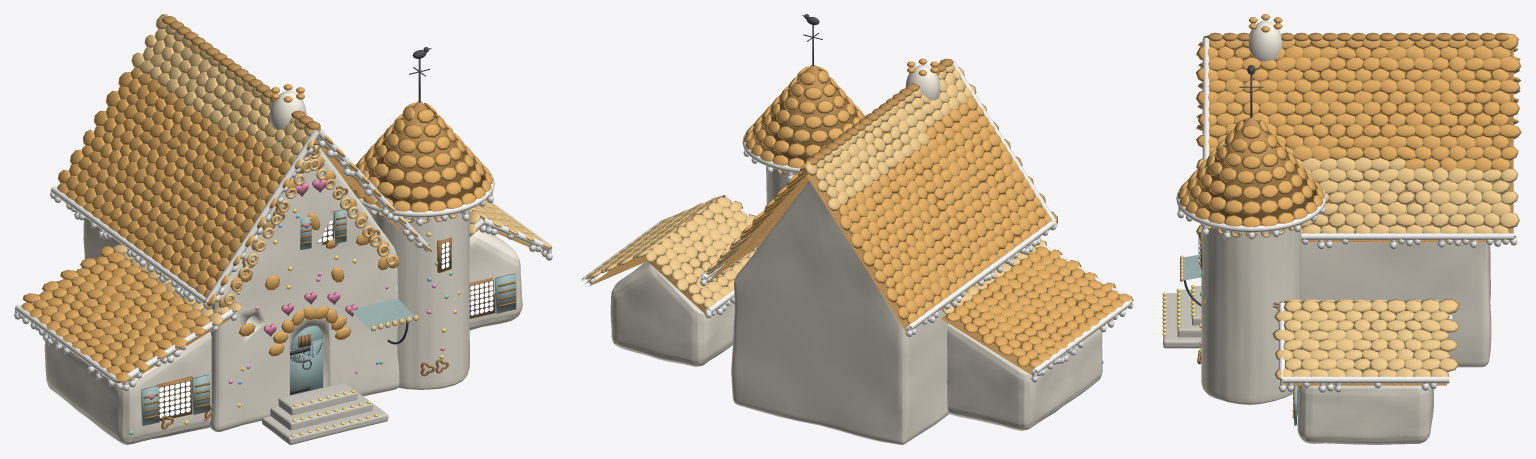
File: HansGrietje_v1.fbx
3 views of the same model, side by side, from view 1: azimuth 30°, elevation 25°; view 2: azimuth 150°, elevation 25°; view 3: azimuth 270°, elevation 25° (orthographic). The views are drawn at different scales.
Visible parts, largest first — view 1: MAT_pleister_0, MAT_koek_1, MAT_koek_0, MAT_koek_4, MAT_koek_5, MAT_pleister_1, MAT_koek_licht_0, MAT_pleister_2, MAT_glazuur_0, MAT_koek_donker_0, MAT_glazuur_1, MAT_luik_0 (+14 smaller); view 2: MAT_pleister_0, MAT_koek_1, MAT_koek_0, MAT_koek_4, MAT_pleister_2, MAT_pleister_3, MAT_koek_licht_0, MAT_koek_licht_2, MAT_koek_donker_0, MAT_koek_5, MAT_glazuur_0, MAT_glazuur_1 (+3 smaller); view 3: MAT_koek_2, MAT_koek_3, MAT_pleister_1, MAT_koek_licht_1, MAT_koek_licht_2, MAT_pleister_0, MAT_koek_5, MAT_pleister_3, MAT_koek_donker_0, MAT_glazuur_1, MAT_glazuur_0, MAT_steen_0 (+3 smaller).
Boxes of the visible parts, <box> form: MAT_pleister_0: <box>83,142,399,431</box>; MAT_koek_1: <box>93,68,290,232</box>; MAT_koek_0: <box>57,129,253,306</box>; MAT_koek_4: <box>21,246,209,383</box>; MAT_koek_5: <box>219,84,493,356</box>; MAT_pleister_1: <box>368,209,469,389</box>; MAT_koek_licht_0: <box>131,14,314,169</box>; MAT_pleister_2: <box>44,332,211,444</box>; MAT_glazuur_0: <box>50,128,429,309</box>; MAT_koek_donker_0: <box>29,16,544,384</box>; MAT_glazuur_1: <box>14,162,552,390</box>; MAT_luik_0: <box>141,209,516,425</box>; MAT_pleister_0: <box>731,180,979,444</box>; MAT_koek_1: <box>838,96,1012,270</box>; MAT_koek_0: <box>874,156,1057,323</box>; MAT_koek_4: <box>946,246,1133,367</box>; MAT_pleister_2: <box>947,323,1102,430</box>; MAT_pleister_3: <box>610,261,734,366</box>; MAT_koek_licht_0: <box>805,64,976,210</box>; MAT_koek_licht_2: <box>584,196,757,309</box>; MAT_koek_donker_0: <box>588,58,1126,375</box>; MAT_koek_5: <box>744,58,938,168</box>; MAT_glazuur_0: <box>700,59,1057,336</box>; MAT_glazuur_1: <box>581,122,1133,382</box>; MAT_koek_2: <box>1196,78,1521,171</box>; MAT_koek_3: <box>1196,33,1520,94</box>; MAT_pleister_1: <box>1201,225,1301,404</box>; MAT_koek_licht_1: <box>1196,157,1519,235</box>; MAT_koek_licht_2: <box>1179,255,1459,381</box>; MAT_pleister_0: <box>1301,242,1491,367</box>; MAT_koek_5: <box>1178,14,1324,227</box>; MAT_pleister_3: <box>1297,385,1433,444</box>; MAT_koek_donker_0: <box>1185,32,1513,385</box>; MAT_glazuur_1: <box>1176,177,1452,392</box>; MAT_glazuur_0: <box>1202,35,1517,249</box>; MAT_steen_0: <box>1163,289,1201,348</box>.
Size of the model in its own units: 11.36 by 7.46 by 7.54.
